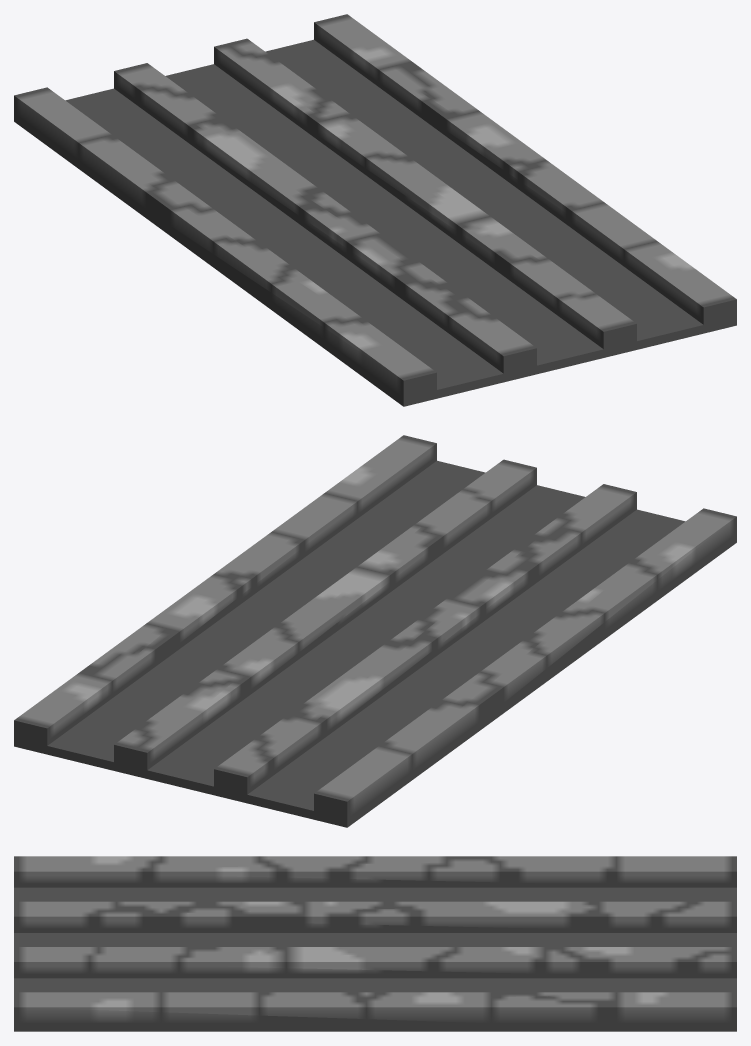
File: FloorForTrain.fbx
The picture shows the model from 3 angles, top to bottom: view 1: azimuth 30°, elevation 25°; view 2: azimuth 150°, elevation 25°; view 3: azimuth 270°, elevation 25°; orthographic projection. The views are drawn at different scales.
Visible parts, largest first — view 1: floorfortrain.floorfortrain-0; view 2: floorfortrain.floorfortrain-0; view 3: floorfortrain.floorfortrain-0.
Part boxes in pixels (bbox=[...]): floorfortrain.floorfortrain-0: bbox=[14, 14, 736, 406]; floorfortrain.floorfortrain-0: bbox=[14, 435, 736, 827]; floorfortrain.floorfortrain-0: bbox=[14, 856, 736, 1031].
Size of the model in its own units: 400 by 30 by 810.
